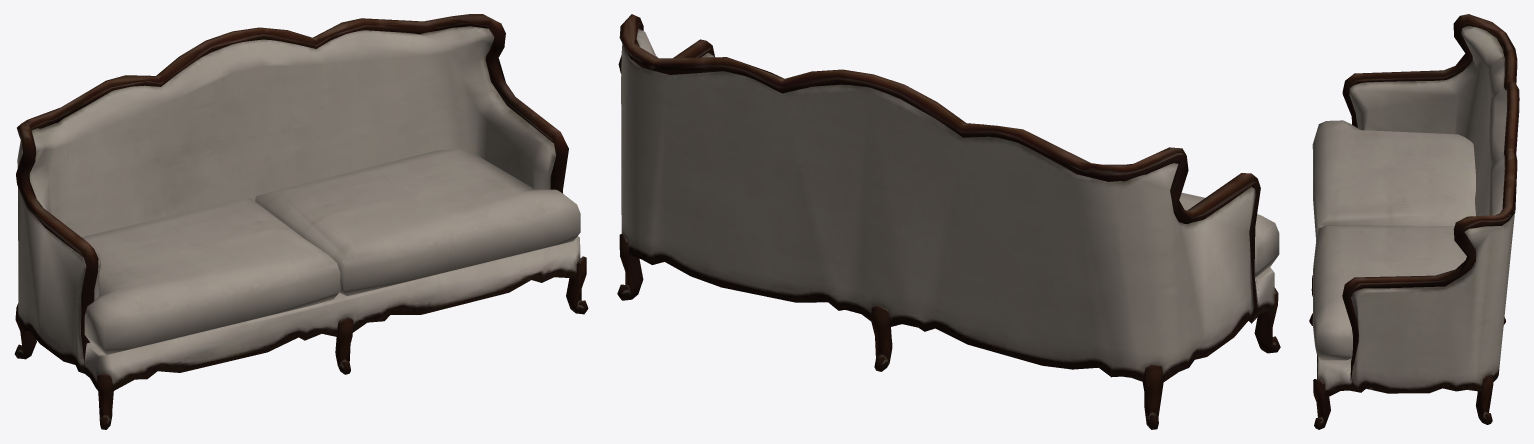
File: Sofa_01.glb
The picture shows the model from 3 angles, left to right: view 1: azimuth 30°, elevation 25°; view 2: azimuth 150°, elevation 25°; view 3: azimuth 270°, elevation 25°; orthographic projection. The views are drawn at different scales.
Parts seen in each view (by area): view 1: Sofa_01; view 2: Sofa_01; view 3: Sofa_01.
Boxes of the visible parts, x1,y1,x2,y2 form: Sofa_01: (14,14,588,429); Sofa_01: (617,14,1280,429); Sofa_01: (1309,14,1519,429).
Size of the model in its own units: 1.57 by 0.7954 by 0.658.
1 material, 1 textured.
